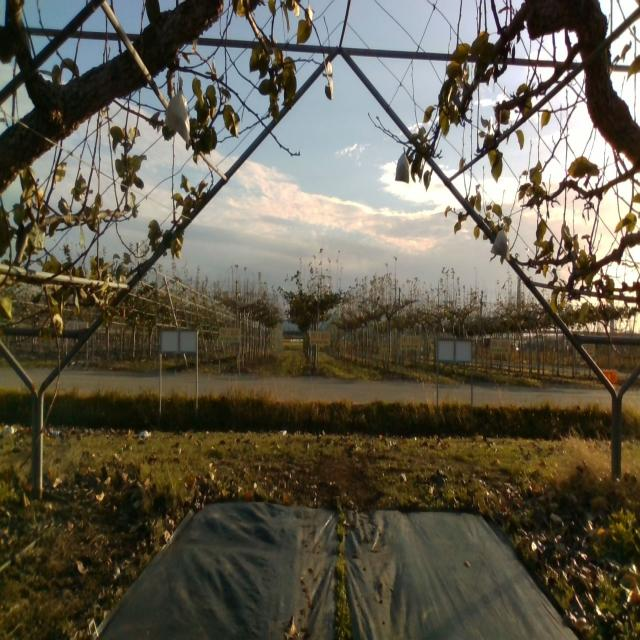pearbags: (166, 77, 192, 138), (489, 224, 510, 261), (394, 146, 411, 184)
